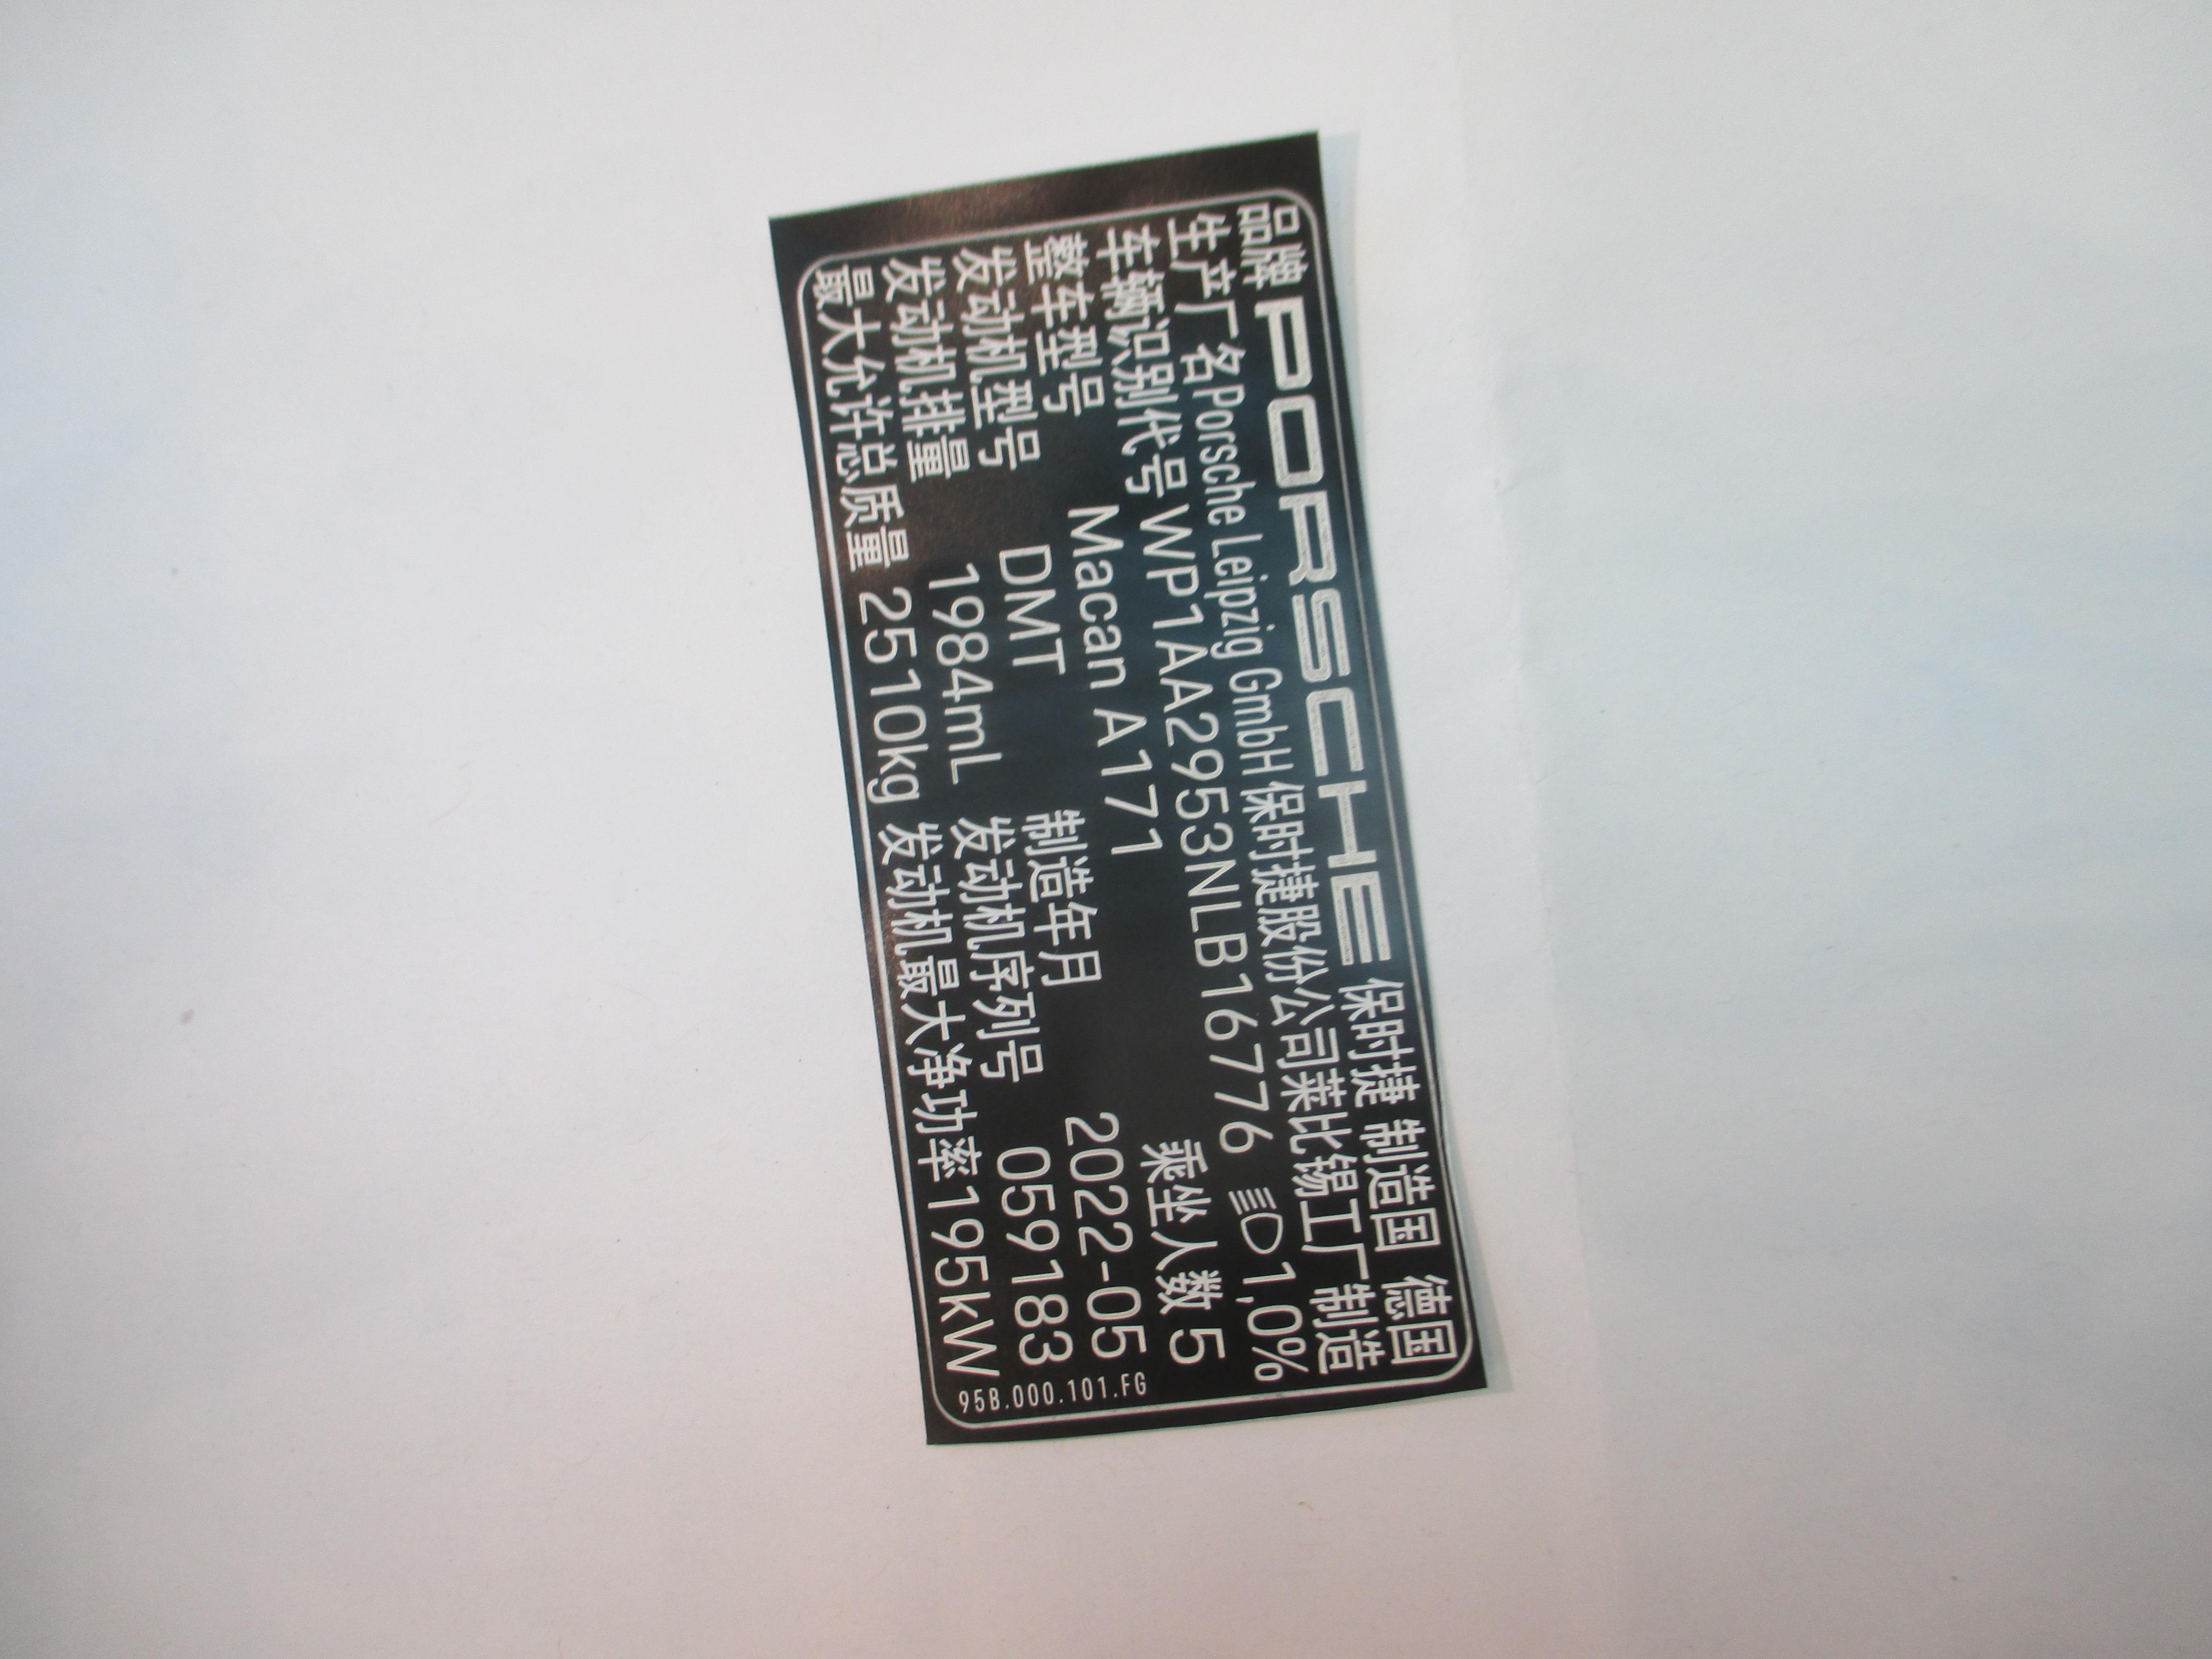Sign: (803, 195, 1472, 1429)
